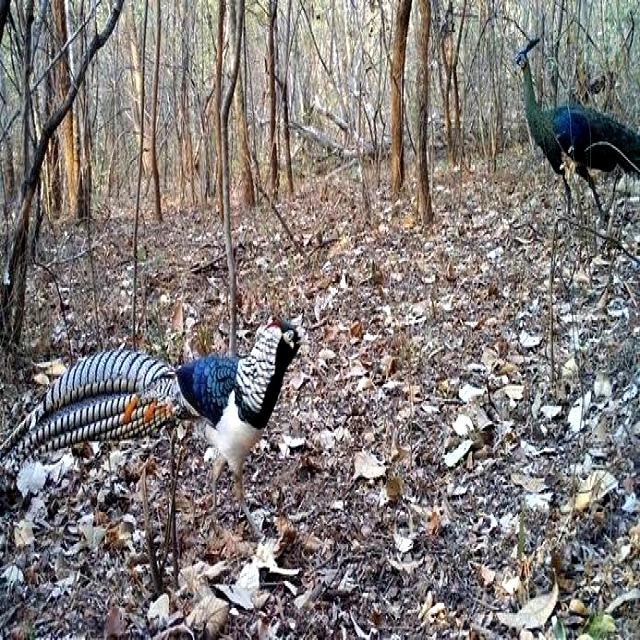Chrysolophus amherstiae: (0, 349, 181, 451)
